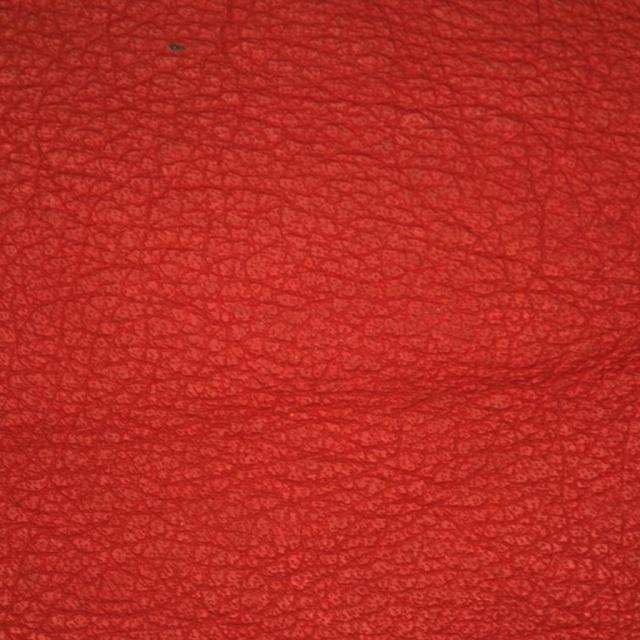Hole: (79, 17, 279, 123)
